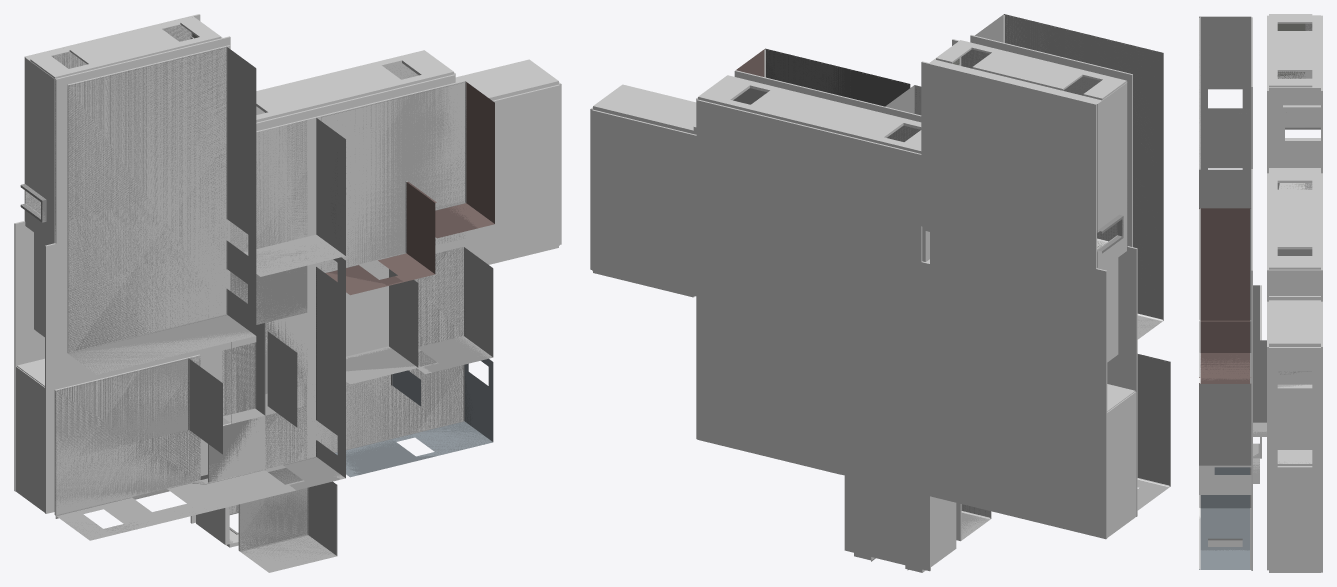
The model's file is int_smuggler_house.glb.
The picture shows the model from 3 angles, left to right: view 1: azimuth 30°, elevation 25°; view 2: azimuth 150°, elevation 25°; view 3: azimuth 270°, elevation 25°; orthographic projection. The views are drawn at different scales.
Parts seen in each view (by area): view 1: g_int_walls, g_int_floor, dm_wood, c_box_007, c_box_008, c_box_012, dm_plaster, c_box_110, c_box_111, c_box_009, c_box_010, c_box_064 (+16 smaller); view 2: c_box_004, c_box_002, c_box_006, c_box_001, c_box_005, dm_plaster, c_box_003, g_int_ceiling, c_box_064, c_box_097, c_box_111, c_box_036 (+12 smaller); view 3: dm_plaster, c_box_023, c_box_036, g_int_walls, c_box_034, c_box_047, c_box_068, c_box_043, dm_hardwood, c_box_077, c_box_031, c_box_032 (+29 smaller).
Part boxes in pixels (left/top/right/bottom): g_int_walls: left=55, top=34, right=494, bottom=572; g_int_floor: left=20, top=25, right=466, bottom=551; dm_wood: left=25, top=25, right=464, bottom=550; c_box_007: left=68, top=45, right=230, bottom=352; c_box_008: left=306, top=80, right=465, bottom=458; c_box_012: left=54, top=354, right=200, bottom=515; dm_plaster: left=68, top=152, right=492, bottom=560; c_box_110: left=465, top=84, right=559, bottom=263; c_box_111: left=45, top=241, right=222, bottom=513; c_box_009: left=230, top=119, right=307, bottom=323; c_box_010: left=264, top=312, right=307, bottom=471; c_box_064: left=25, top=57, right=54, bottom=207; c_box_004: left=930, top=228, right=1107, bottom=539; c_box_002: left=696, top=207, right=844, bottom=475; c_box_006: left=921, top=61, right=1096, bottom=268; c_box_001: left=844, top=243, right=930, bottom=571; c_box_005: left=696, top=99, right=922, bottom=288; dm_plaster: left=733, top=14, right=1170, bottom=534; c_box_003: left=592, top=109, right=696, bottom=296; g_int_ceiling: left=765, top=14, right=1169, bottom=518; c_box_064: left=1097, top=82, right=1127, bottom=232; c_box_097: left=1107, top=391, right=1136, bottom=537; c_box_111: left=1107, top=246, right=1137, bottom=516; c_box_036: left=593, top=84, right=696, bottom=133; dm_plaster: left=1199, top=16, right=1312, bottom=550; c_box_023: left=1269, top=491, right=1320, bottom=571; c_box_036: left=1269, top=300, right=1320, bottom=346; g_int_walls: left=1199, top=358, right=1310, bottom=569; c_box_034: left=1277, top=387, right=1312, bottom=449; c_box_047: left=1277, top=189, right=1312, bottom=249; c_box_068: left=1277, top=31, right=1312, bottom=71; c_box_043: left=1269, top=269, right=1320, bottom=295; dm_hardwood: left=1199, top=17, right=1320, bottom=569; c_box_077: left=1269, top=139, right=1320, bottom=167; c_box_031: left=1312, top=347, right=1320, bottom=489; c_box_032: left=1269, top=347, right=1277, bottom=489.
Size of the model in its own units: 30.28 by 28.83 by 7.1.
